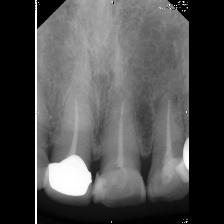apical_lesion: (146, 64, 189, 203)
